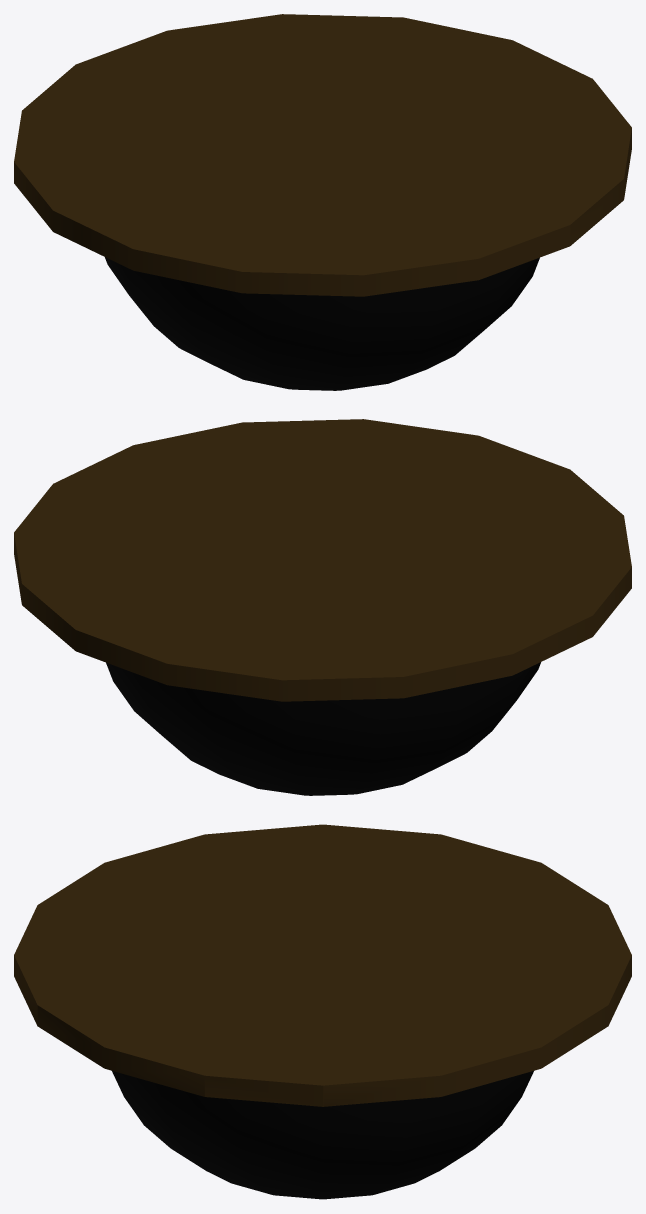
The model's file is kitchen_light.fbx.
3 renders of one model, top to bottom at view 1: azimuth 30°, elevation 25°; view 2: azimuth 150°, elevation 25°; view 3: azimuth 270°, elevation 25°, orthographic.
Visible parts, largest first — view 1: pSphere1; view 2: pSphere1; view 3: pSphere1.
Part boxes in pixels (bbox=[...]): pSphere1: bbox=[14, 14, 631, 390]; pSphere1: bbox=[14, 419, 631, 795]; pSphere1: bbox=[14, 824, 631, 1199].
Bounding box in the file's own units: 5.57 × 2.3 × 5.57.
